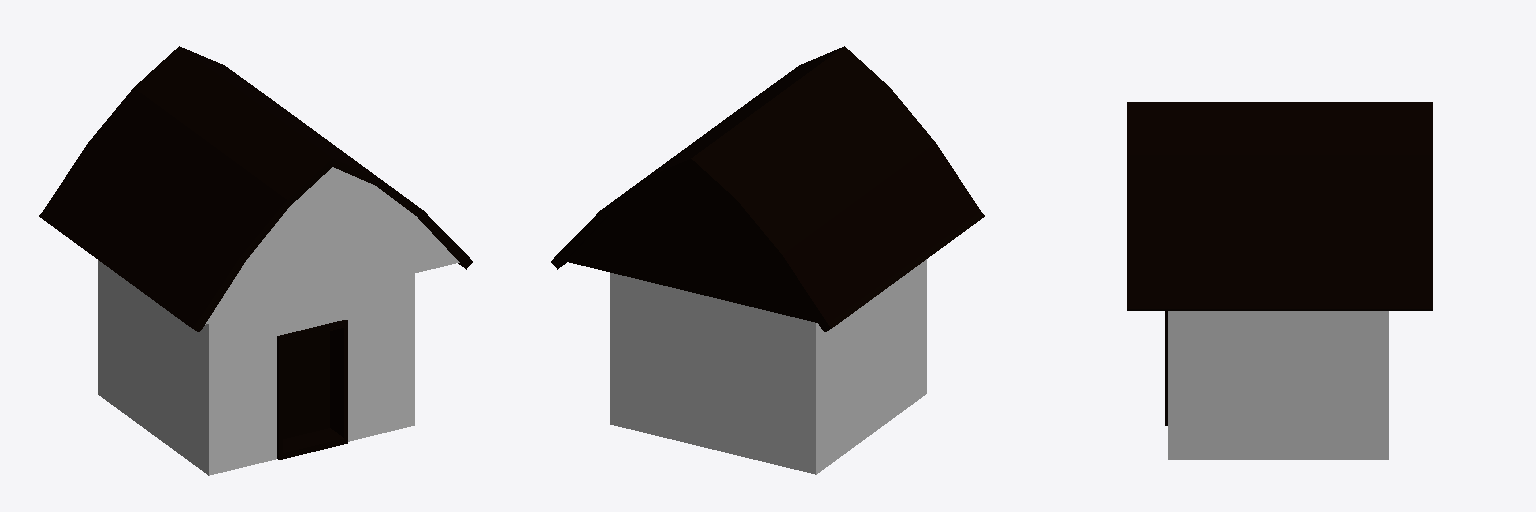
Rendered from CasaQuadrada.obj.
The picture shows the model from 3 angles: view 1: azimuth 30°, elevation 25°; view 2: azimuth 150°, elevation 25°; view 3: azimuth 270°, elevation 25°; orthographic projection.
Visible parts, largest first — view 1: Telhado, Cube.002, Cube.004, Cube.001, Cube.003, Cube.005; view 2: Cube.002, Telhado, Cube.001; view 3: Telhado, Cube.002, Cube.001.
Part boxes in pixels (left/top/right/bottom): Telhado: left=47, top=49, right=408, bottom=321; Cube.002: left=98, top=260, right=414, bottom=475; Cube.004: left=205, top=167, right=459, bottom=324; Cube.001: left=39, top=46, right=472, bottom=331; Cube.003: left=283, top=331, right=329, bottom=438; Cube.005: left=277, top=320, right=347, bottom=459; Cube.002: left=610, top=259, right=926, bottom=474; Telhado: left=615, top=48, right=977, bottom=319; Cube.001: left=551, top=46, right=984, bottom=331; Telhado: left=1132, top=102, right=1425, bottom=300; Cube.002: left=1168, top=311, right=1388, bottom=459; Cube.001: left=1127, top=102, right=1432, bottom=310.
Size of the model in its own units: 25.45 by 26.58 by 24.06.